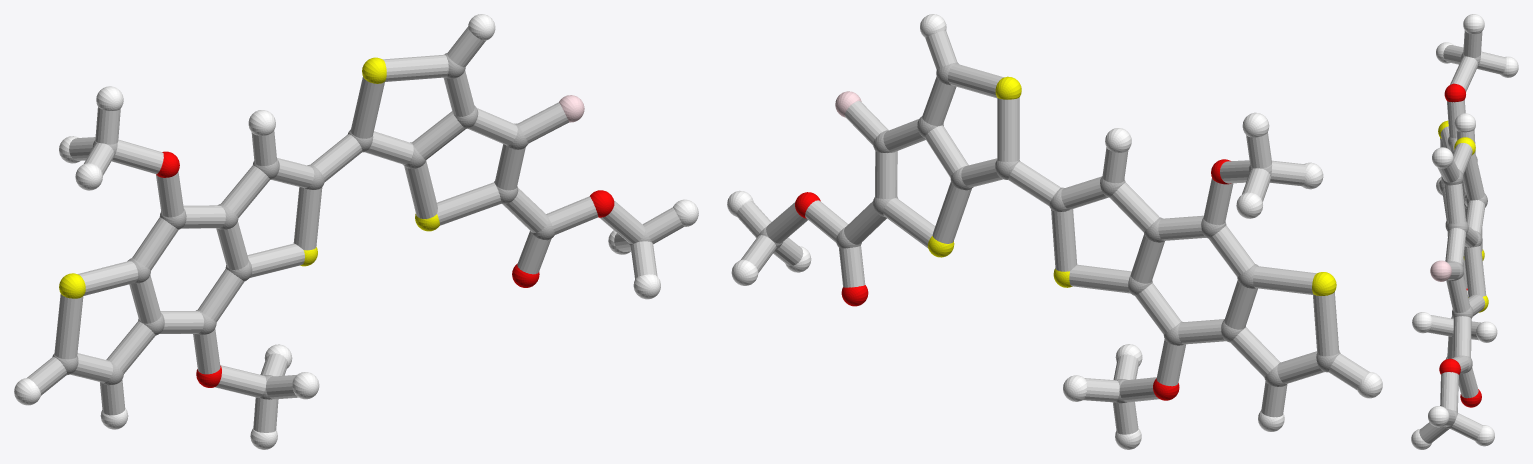
Rendered from Dimethoxy_Benzodithiophene_Phi_20_Theta_0_Methylcarbonyl_3_Fluoro_Thienothiophene.glb.
The picture shows the model from 3 angles, left to right: view 1: azimuth 30°, elevation 25°; view 2: azimuth 150°, elevation 25°; view 3: azimuth 270°, elevation 25°; orthographic projection. The views are drawn at different scales.
Parts seen in each view (by area): view 1: grp15205, grp8689, grp1, grp13395, grp7241; view 2: grp15205, grp8689, grp1, grp7241, grp13395; view 3: grp15205, grp8689, grp1, grp13395, grp14843, grp7241.
Part boxes in pixels (x1=…): grp15205: x1=26, y1=27, x2=683, y2=432; grp8689: x1=14, y1=14, x2=698, y2=449; grp1: x1=52, y1=53, x2=651, y2=399; grp13395: x1=156, y1=151, x2=614, y2=387; grp7241: x1=59, y1=57, x2=439, y2=298; grp15205: x1=736, y1=30, x2=1368, y2=434; grp8689: x1=727, y1=14, x2=1382, y2=449; grp1: x1=758, y1=62, x2=1340, y2=403; grp7241: x1=927, y1=76, x2=1336, y2=295; grp13395: x1=795, y1=159, x2=1231, y2=400; grp15205: x1=1419, y1=30, x2=1506, y2=443; grp8689: x1=1411, y1=14, x2=1518, y2=449; grp1: x1=1439, y1=52, x2=1487, y2=428; grp13395: x1=1439, y1=83, x2=1481, y2=407; grp14843: x1=1430, y1=260, x2=1451, y2=281; grp7241: x1=1438, y1=120, x2=1488, y2=312.
Bounding box in the file's own units: 16.99 × 9.34 × 3.
